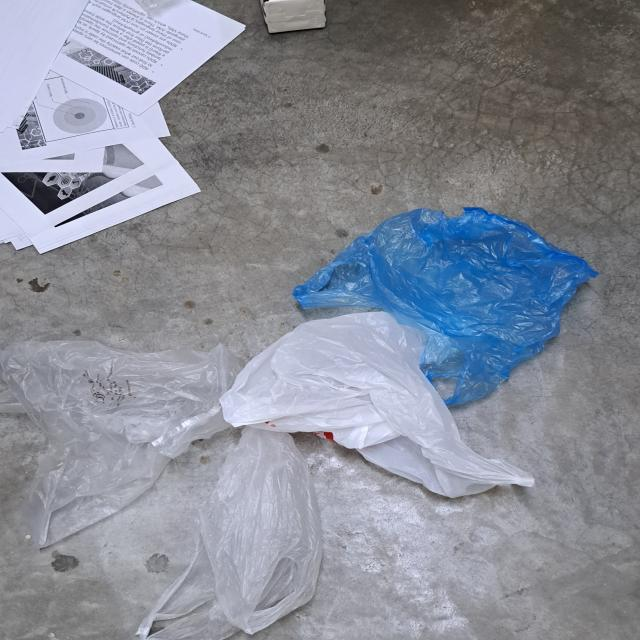paper: (0, 0, 245, 255)
plastic bag: (5, 342, 322, 640), (222, 309, 540, 503), (302, 201, 593, 410)
